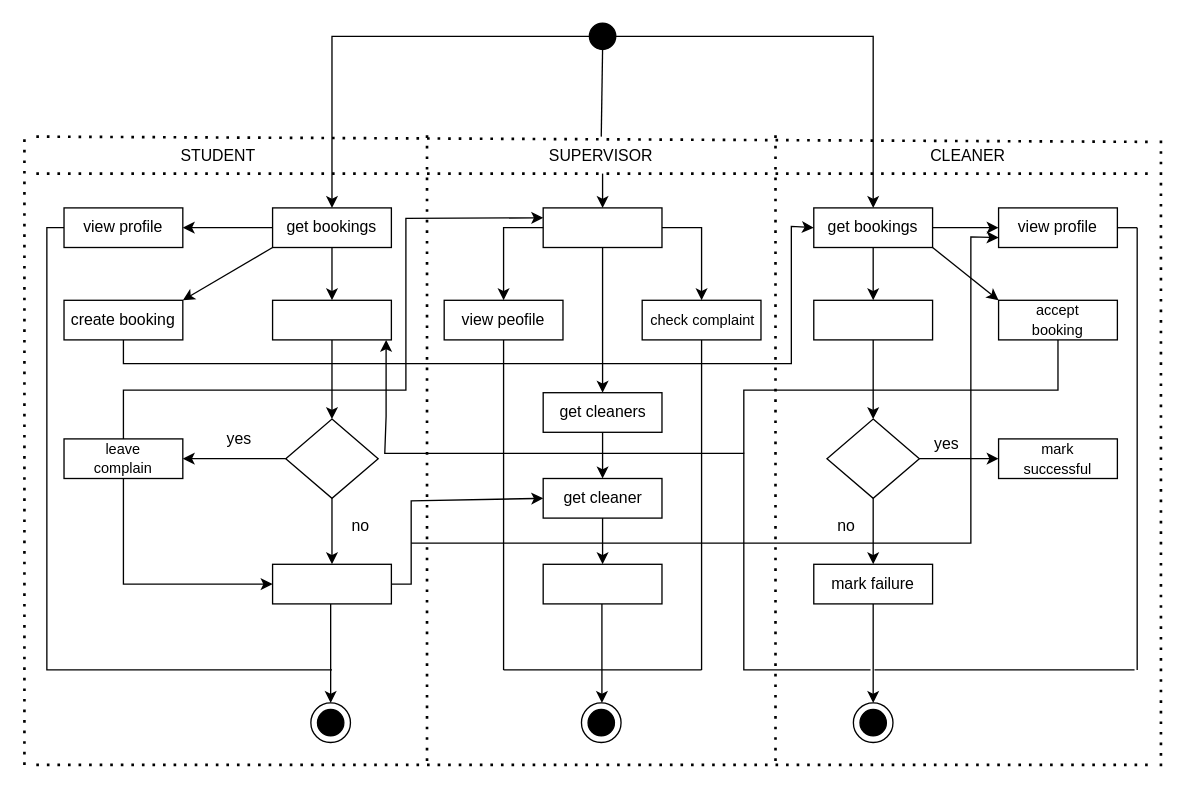
Some shapes in this 1185 by 792 pixel diagram are drawn without their labels. Here are the shapes that lost their labels. From the top down, the box of each, then its label:
(542, 207, 662, 248): get complaints
(271, 299, 391, 340): check booking
(812, 299, 933, 340): complete booking
(284, 418, 378, 498): have complain?
(826, 418, 919, 498): was success?
(271, 563, 391, 604): leave review
(542, 563, 662, 604): mark attendance
